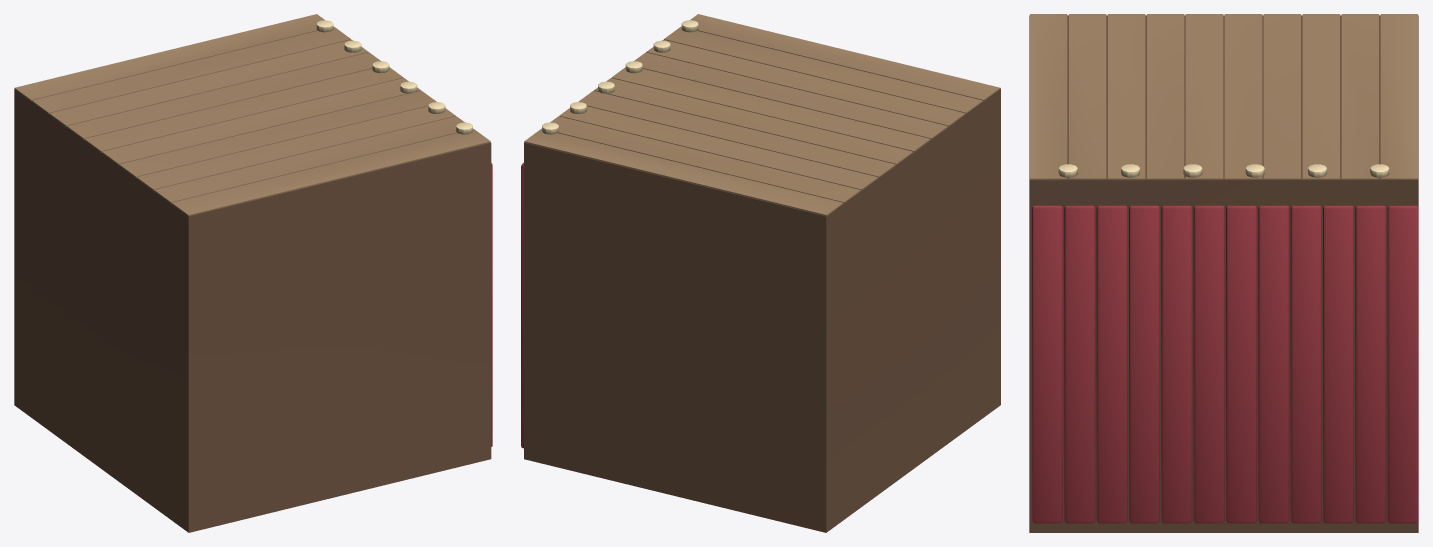
File: stage.glb
3 views of the same model, side by side, from view 1: azimuth 30°, elevation 25°; view 2: azimuth 150°, elevation 25°; view 3: azimuth 270°, elevation 25° (orthographic). The views are drawn at different scales.
Parts seen in each view (by area): view 1: boat_darkwood, boat_plank, boat_lampg, boat_curtain; view 2: boat_darkwood, boat_plank, boat_lampg, boat_curtain; view 3: boat_curtain, boat_plank, boat_darkwood, boat_lampg.
Part boxes in pixels (x1,y1,x2,y2): boat_darkwood: (14,89,491,532); boat_plank: (14,14,490,216); boat_lampg: (316,20,472,134); boat_curtain: (491,163,492,446); boat_darkwood: (524,89,1000,532); boat_plank: (524,14,1000,216); boat_lampg: (542,20,698,134); boat_curtain: (521,163,523,448); boat_curtain: (1032,205,1418,523); boat_plank: (1030,14,1417,181); boat_darkwood: (1029,15,1418,532); boat_lampg: (1058,164,1389,178).
Size of the model in its own units: 1.01 by 1.02 by 1.
